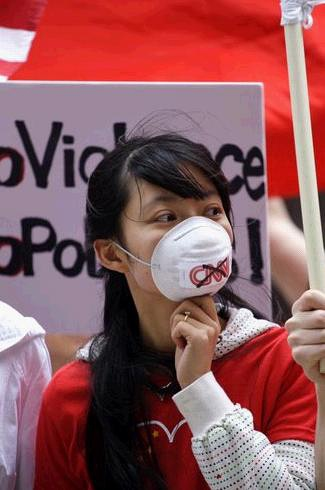face_mask: (128, 163, 233, 303)
